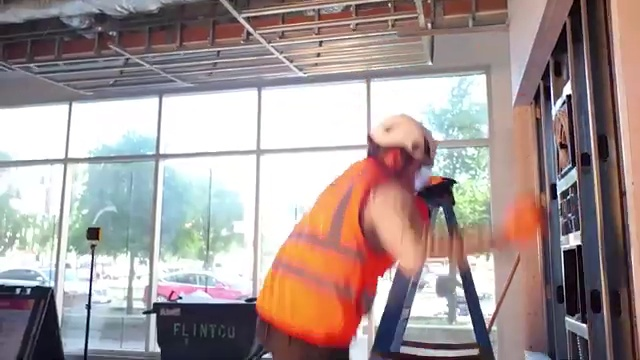helmet: (369, 105, 448, 155)
jacket: (254, 154, 382, 349)
